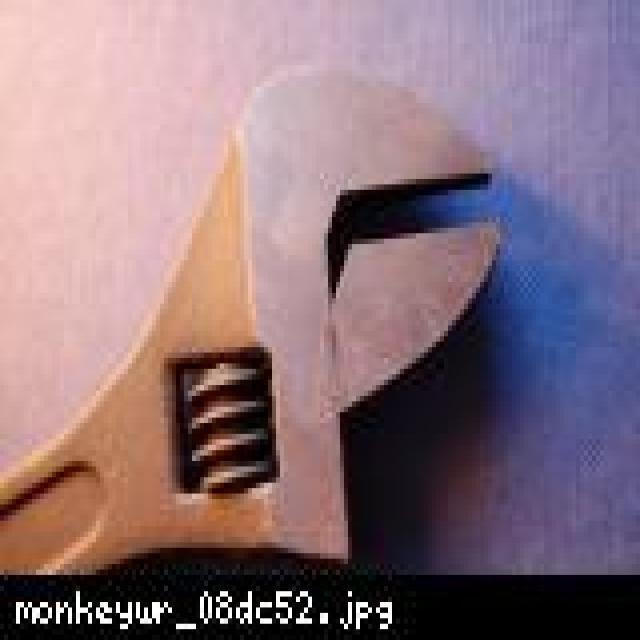wrench: (0, 47, 508, 570)
